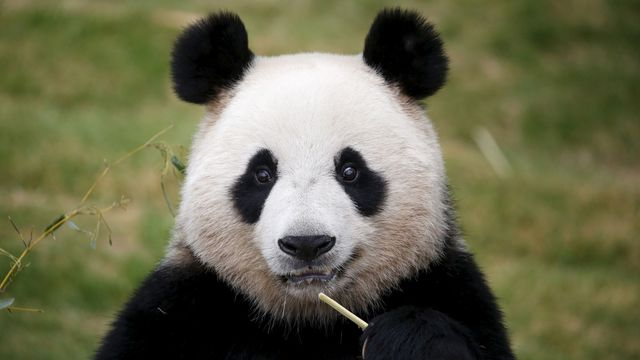panda: (118, 9, 508, 360)
